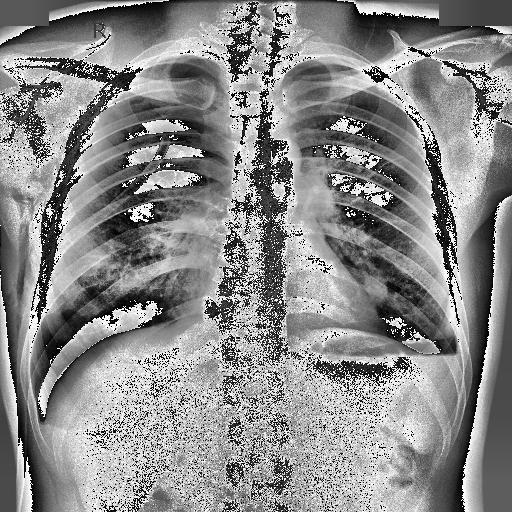10- Pleural effusion: (404, 330, 462, 364), (373, 354, 464, 370), (424, 348, 462, 368)
12- Pneumothorax: (26, 60, 218, 417), (61, 59, 209, 184), (72, 134, 205, 240), (28, 307, 109, 427), (32, 308, 110, 426), (34, 316, 96, 422), (350, 337, 460, 356), (402, 327, 458, 353), (410, 339, 456, 354)
13- Pulmonary fibrosis: (366, 153, 410, 181)
6- Infiltration: (60, 195, 218, 296)
7- Lung Opacity: (363, 276, 389, 298)
8- Nodule-Mass: (364, 272, 386, 302)
9- Other lesion: (60, 195, 218, 296), (4, 196, 36, 354), (9, 193, 38, 344), (14, 190, 30, 352)
